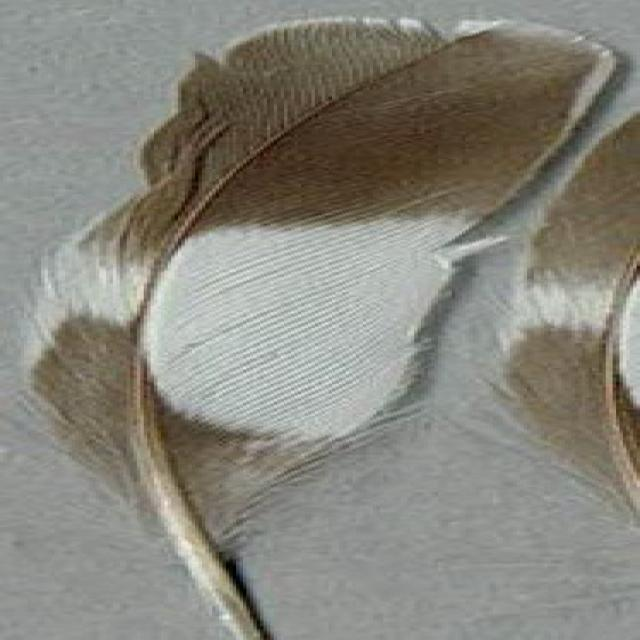feather: (23, 15, 612, 640)
